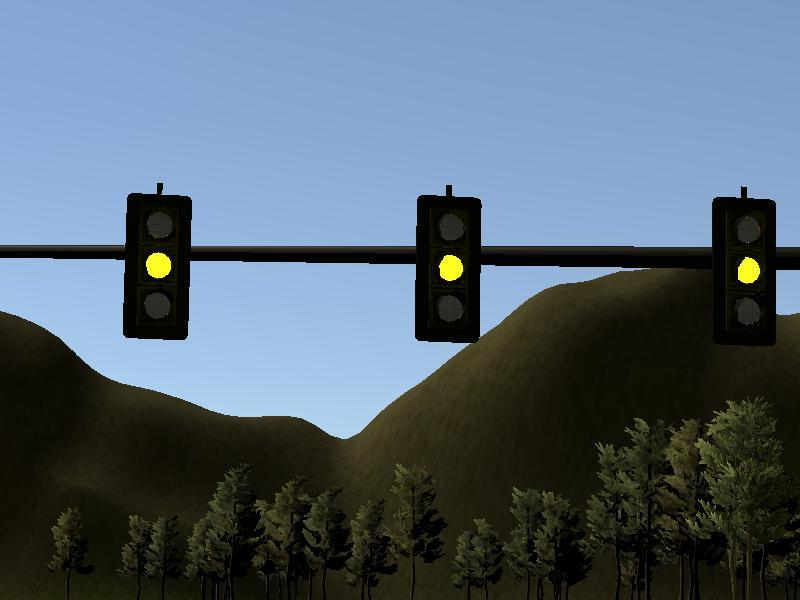Yellow: (415, 193, 483, 343), (123, 192, 191, 339), (711, 196, 777, 345)
